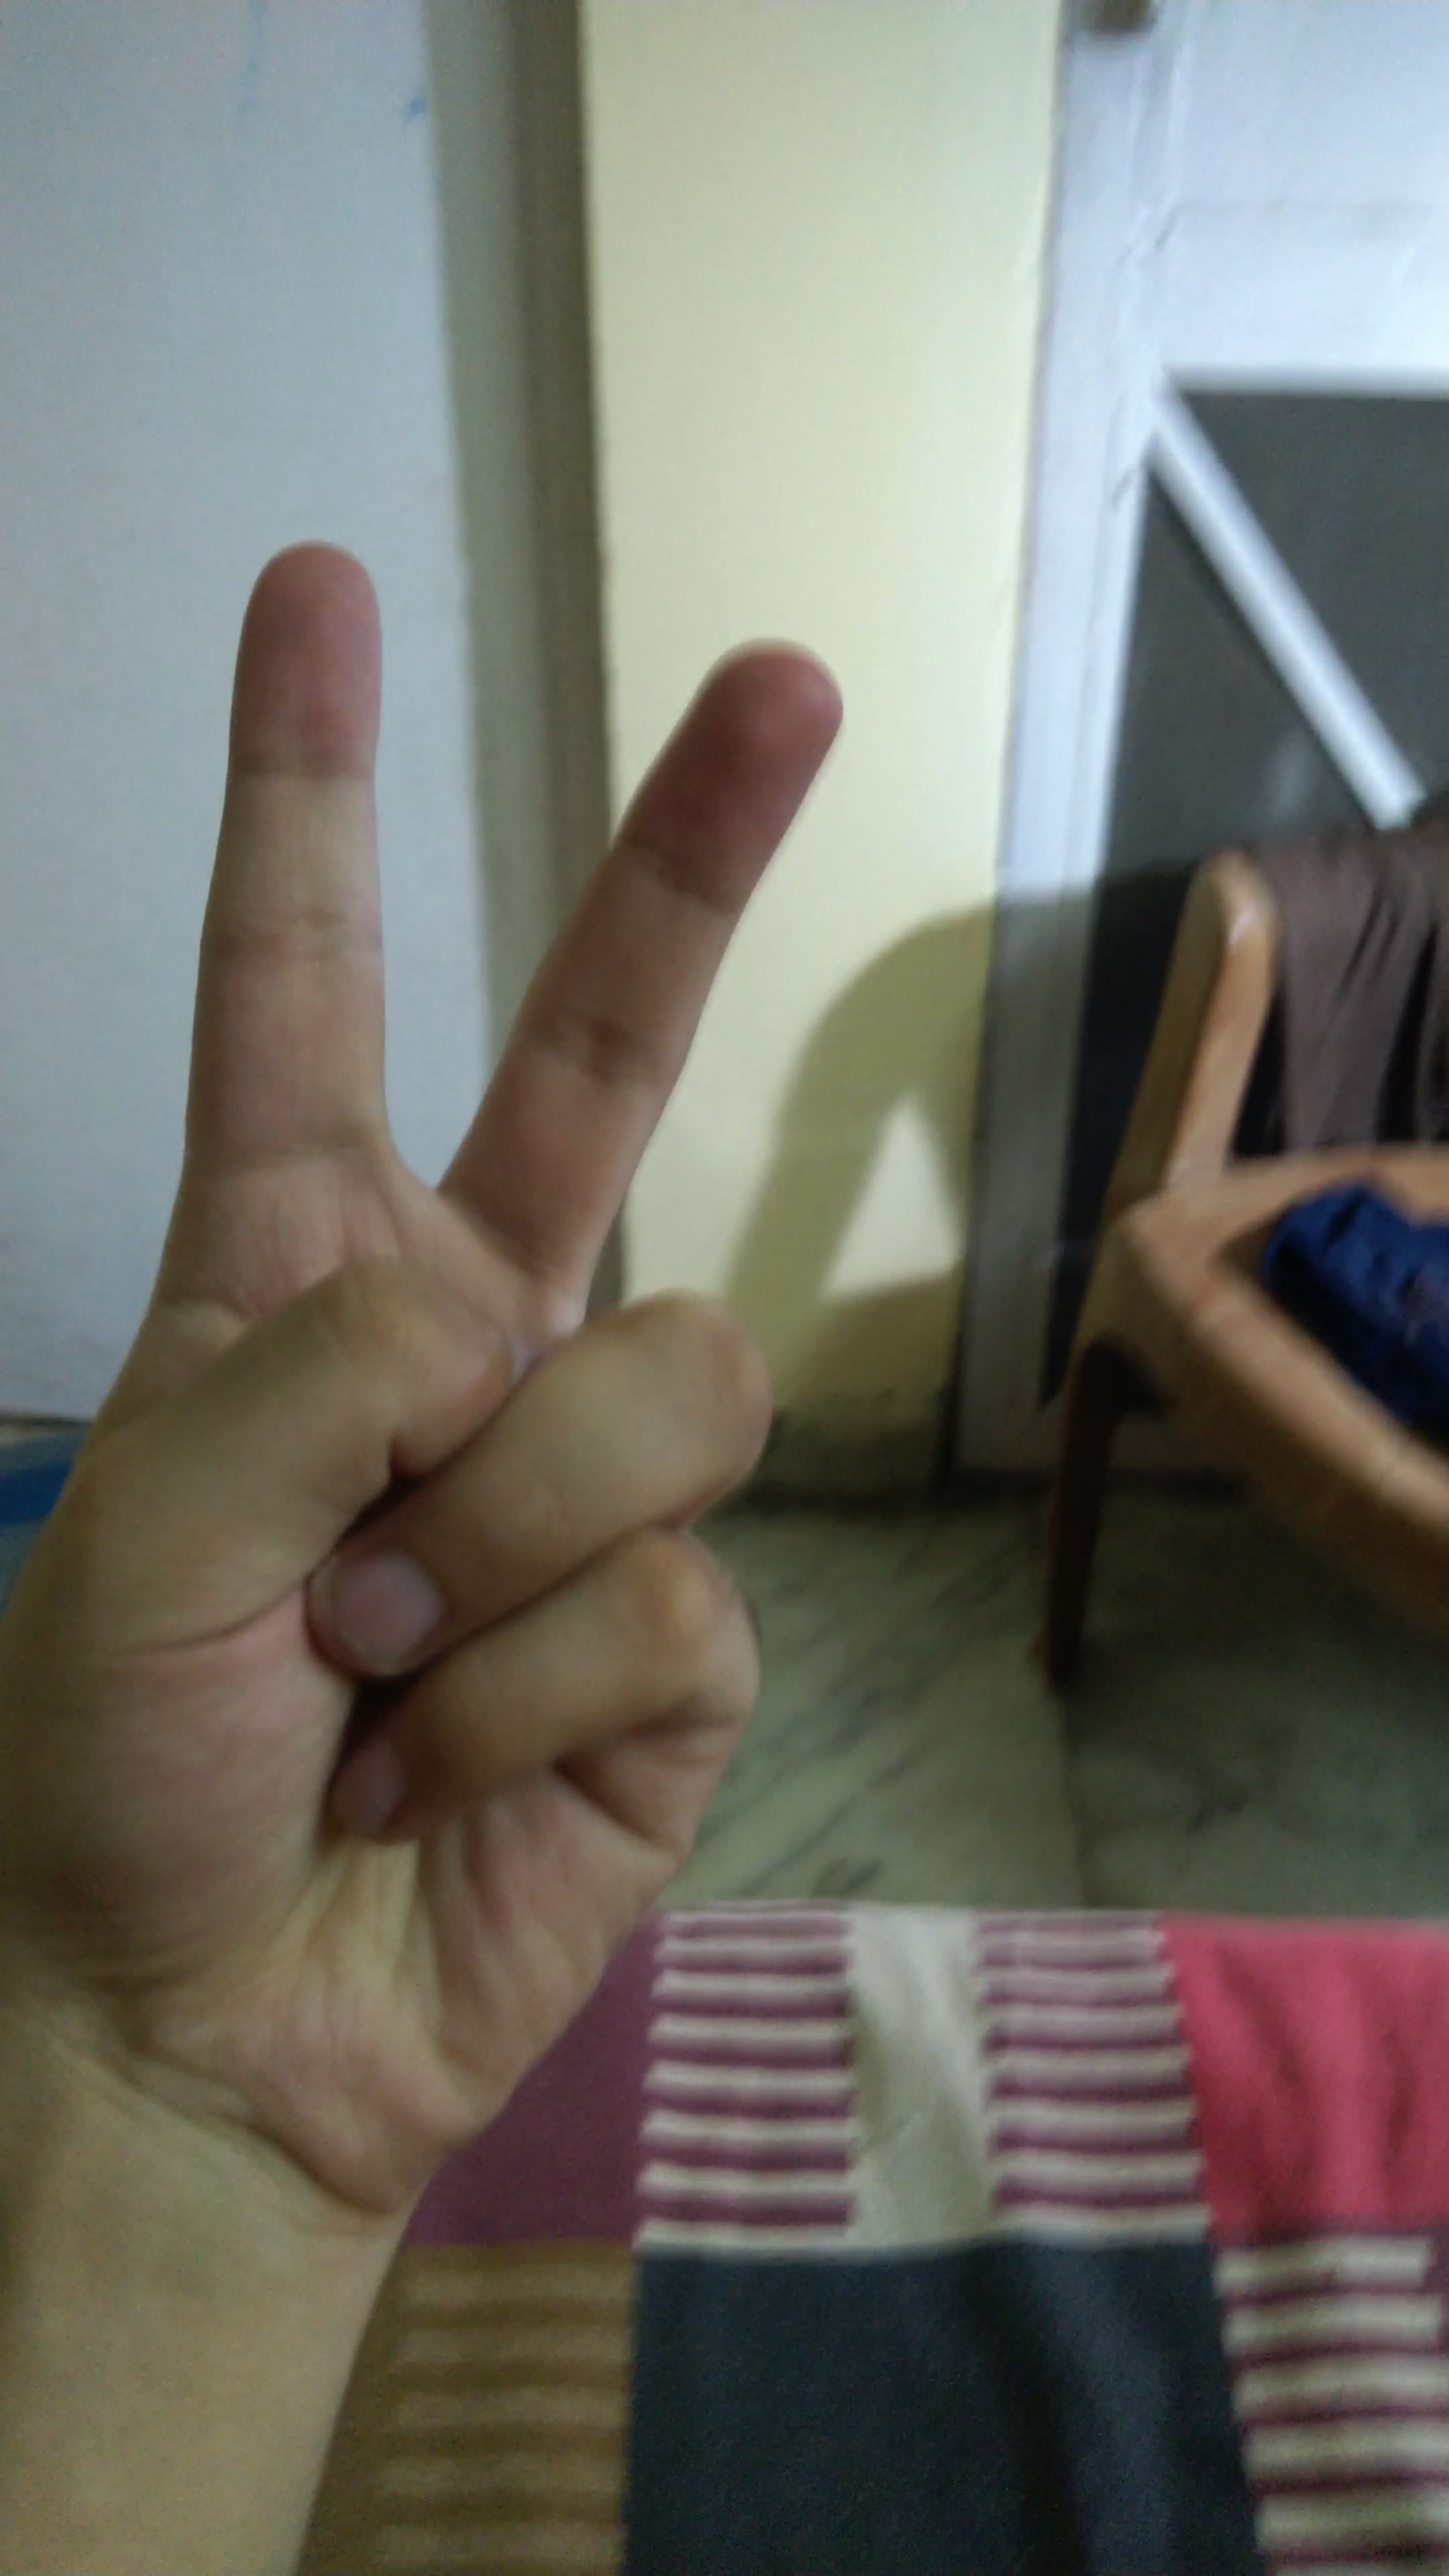hand: (55, 478, 846, 2238)
